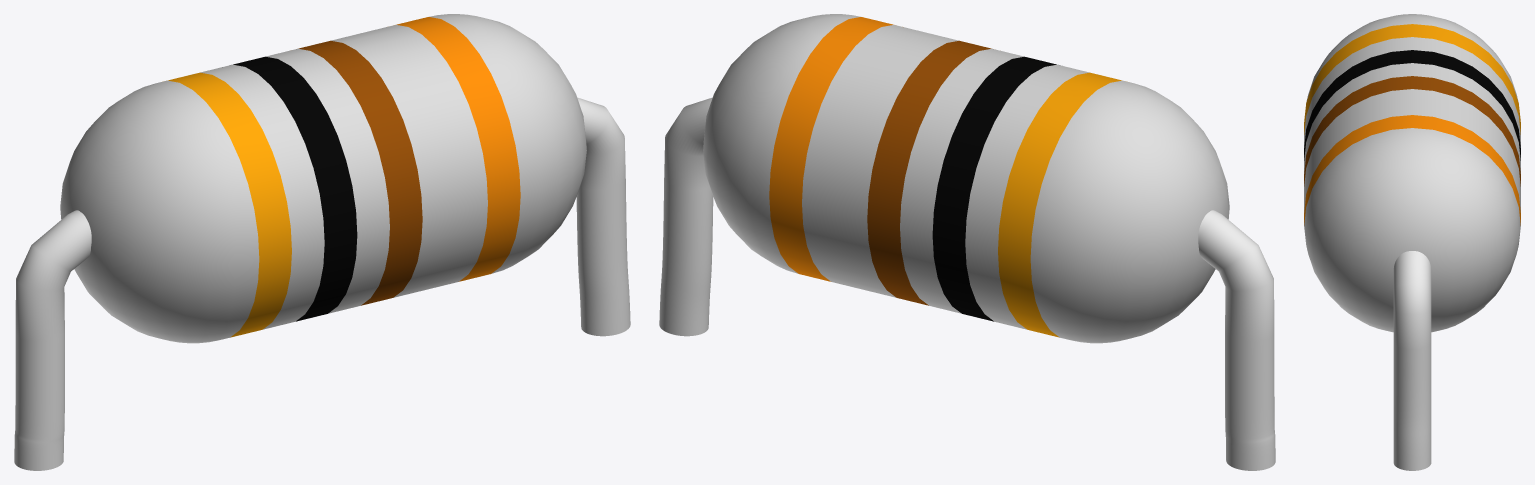
3 views of the same model, side by side, from view 1: azimuth 30°, elevation 25°; view 2: azimuth 150°, elevation 25°; view 3: azimuth 270°, elevation 25° (orthographic). The views are drawn at different scales.
Visible parts, largest first — view 1: Sphere.002, BezierCurve.002; view 2: Sphere.002, BezierCurve.002; view 3: Sphere.002, BezierCurve.002.
Boxes of the visible parts, x1,y1,x2,y2 form: Sphere.002: (60, 14, 586, 343); BezierCurve.002: (14, 97, 630, 470); Sphere.002: (703, 14, 1229, 343); BezierCurve.002: (659, 97, 1275, 470); Sphere.002: (1304, 14, 1520, 332); BezierCurve.002: (1393, 251, 1431, 470).
Bounding box in the file's own units: 530 × 280 × 200.
